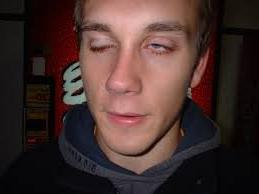Drunk: (81, 1, 195, 147)
